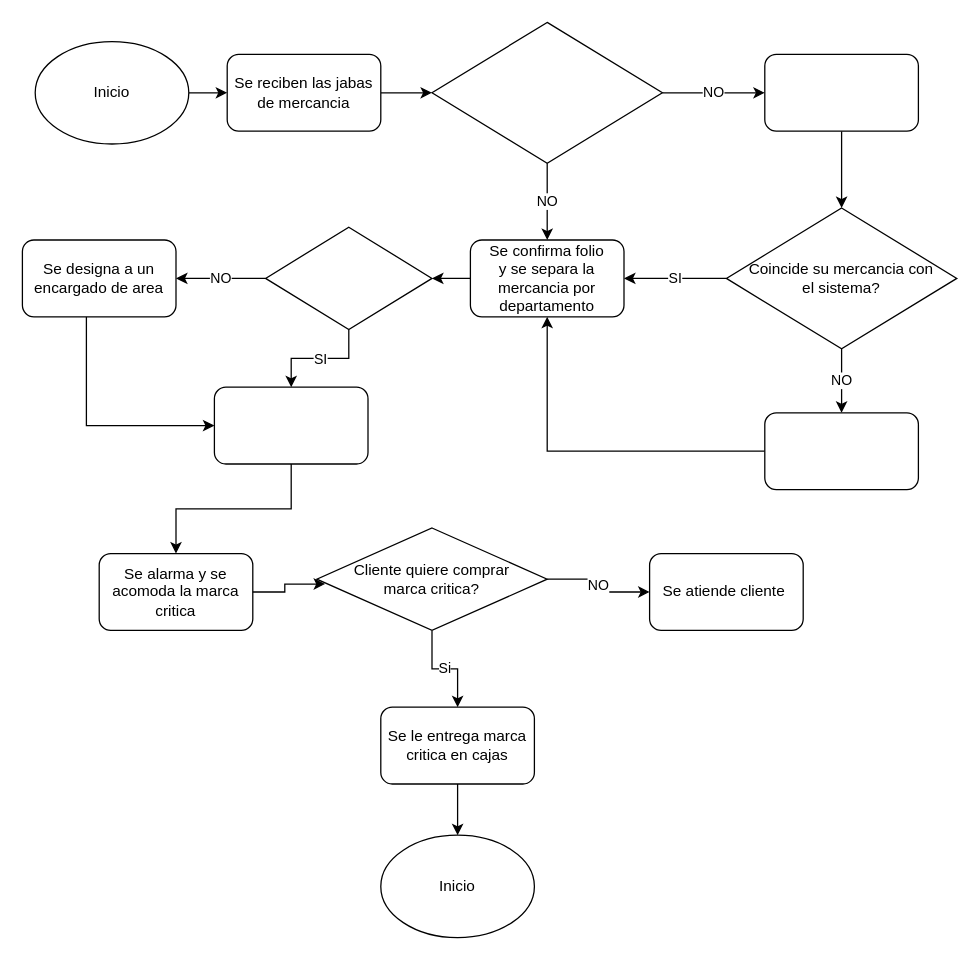
The diagram is 979 pixels wide and 960 high, and some of its shapes have lost their labels. Each missing label, with the box of its shape:
hay encargado de area?: (264, 226, 432, 330)
la jaba esta cerrada correctamente?: (431, 21, 662, 163)
Se entrega mercancia a encargado de area: (213, 386, 368, 464)
Se realiza ajuste en sistema y se comunica a distribucion: (764, 412, 918, 490)
tomar folio y revisar en sistema su contenido: (764, 53, 918, 131)
